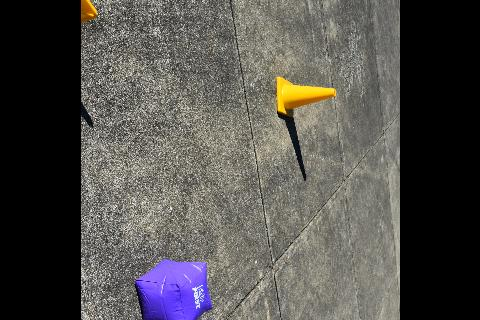cone: (276, 77, 334, 119), (80, 0, 96, 23)
cube: (133, 259, 210, 320)
